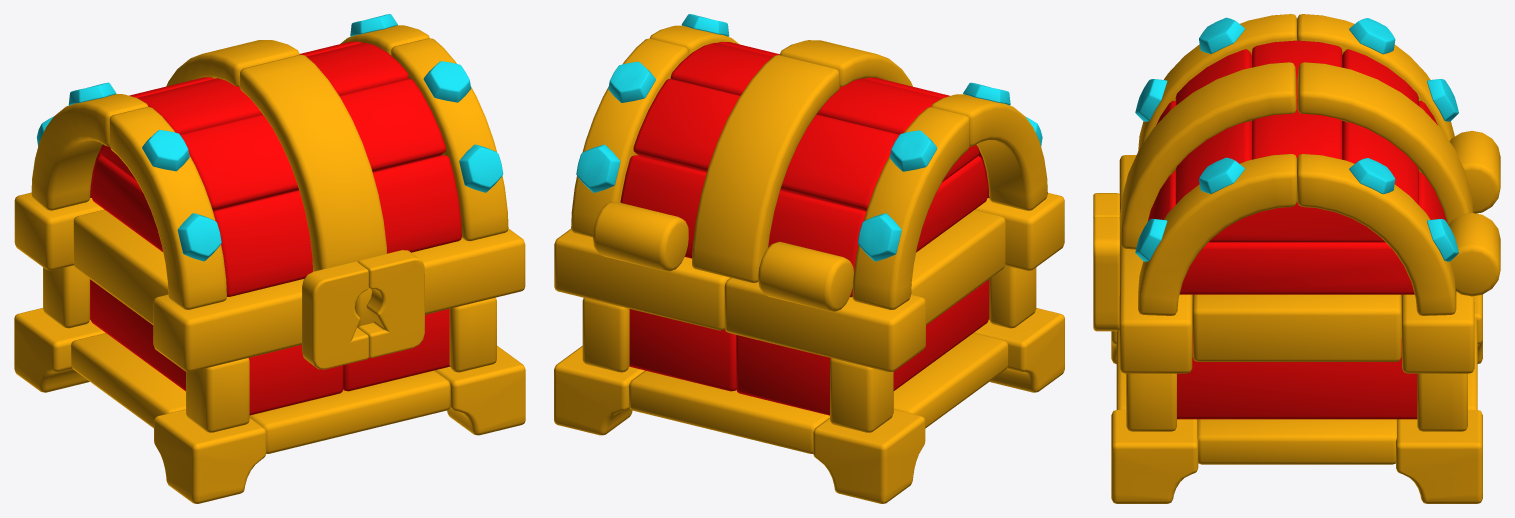
File: Chest.fbx
3 views of the same model, side by side, from view 1: azimuth 30°, elevation 25°; view 2: azimuth 150°, elevation 25°; view 3: azimuth 270°, elevation 25° (orthographic).
Parts seen in each view (by area): view 1: Cube.034, Cube.056, Cube.036, Cube.065, Cube.077, Cube.054, Cube.062, Cube.075, Cube.057, Cube.031, Cube.052, Cube.040 (+24 smaller); view 2: Cube.039, Cube.041, Cube.031, Cube.055, Cube.042, Cube.046, Cube.043, Cube.036, Cube.040, Cube.074, Cube.032, Cube.050 (+24 smaller); view 3: Cube.058, Cube.070, Cube.073, Cube.034, Cube.039, Cube.074, Cube.075, Cube.066, Cube.064, Cube.063, Cube.057, Cube.055 (+29 smaller).
Boxes of the visible parts, box(x1,y1,x2,y2) form: Cube.034: box(239, 54, 386, 271); Cube.056: box(153, 279, 303, 371); Cube.036: box(109, 107, 226, 309); Cube.065: box(249, 370, 450, 453); Cube.077: box(213, 190, 312, 296); Cube.054: box(180, 114, 298, 211); Cube.062: box(154, 409, 266, 503); Cube.075: box(391, 38, 508, 241); Cube.057: box(355, 228, 525, 327); Cube.031: box(31, 94, 148, 210); Cube.052: box(372, 155, 461, 253); Cube.040: box(73, 209, 168, 324); Cube.039: box(692, 55, 839, 282); Cube.041: box(724, 278, 925, 372); Cube.031: box(852, 107, 969, 309); Cube.055: box(554, 229, 730, 330); Cube.042: box(629, 370, 829, 453); Cube.046: box(780, 114, 899, 211); Cube.043: box(813, 409, 925, 503); Cube.036: box(931, 94, 1047, 210); Cube.040: box(911, 210, 1005, 325); Cube.074: box(571, 38, 688, 237); Cube.032: box(633, 79, 740, 172); Cube.050: box(629, 309, 736, 391); Cube.058: box(1192, 294, 1401, 361); Cube.070: box(1177, 340, 1417, 419); Cube.073: box(1179, 242, 1414, 294); Cube.034: box(1120, 62, 1296, 249); Cube.039: box(1297, 62, 1473, 224); Cube.074: box(1297, 154, 1456, 315); Cube.075: box(1138, 154, 1296, 315); Cube.066: box(1197, 419, 1396, 464); Cube.064: box(1111, 410, 1198, 503); Cube.063: box(1396, 410, 1482, 503); Cube.057: box(1119, 244, 1192, 373); Cube.055: box(1401, 292, 1474, 373).
Bounding box in the file's own units: 7.16 × 6.84 × 7.28.
